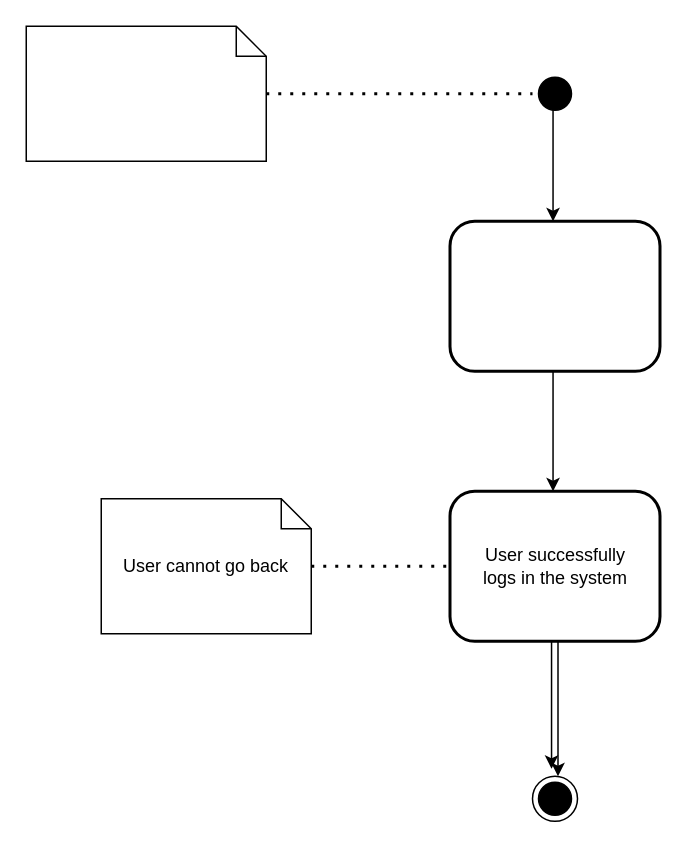
Image size: 687x848. Some labels were removed from this diagram. Here are the shapes that lost their labels. From the top down, the centre of each, then its label:
At point (145, 93): "User should be logged in the system".
At point (554, 295): "User clicks the Logout button to log out of the system".
